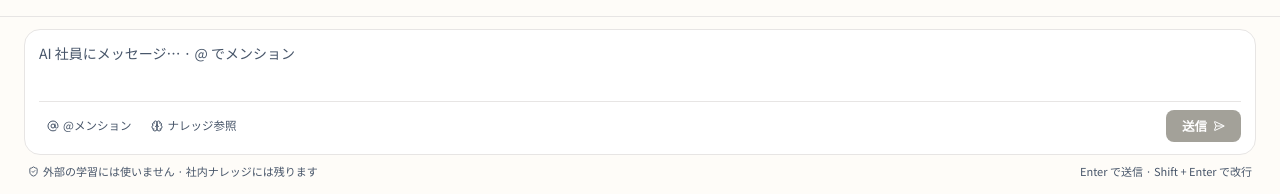
Test: ChatPanel ピッカー (GAP-118 coverage) › inserts a mention at the cursor and closes the picker
Click the button "@メンション".
click(89, 126)  # box [39,113,139,139]
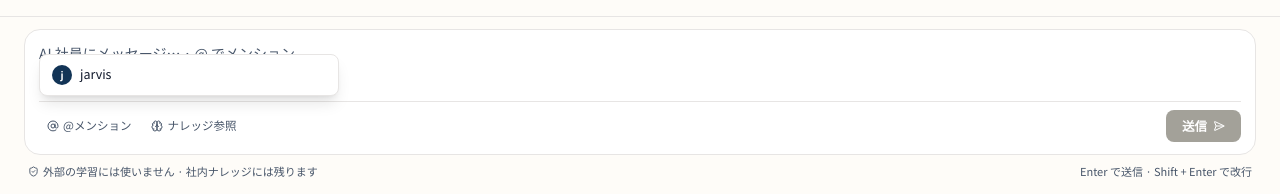
Click the option "j jarvis".
click(96, 74)  # box [40,58,338,90]
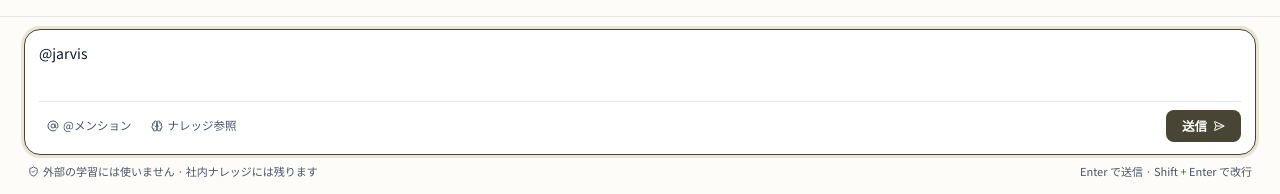
Expected: the text box named "メッセージを入力" holds "@jarvis ", [39,42,1241,88]
Expected: the list "j jarvis" is gone
